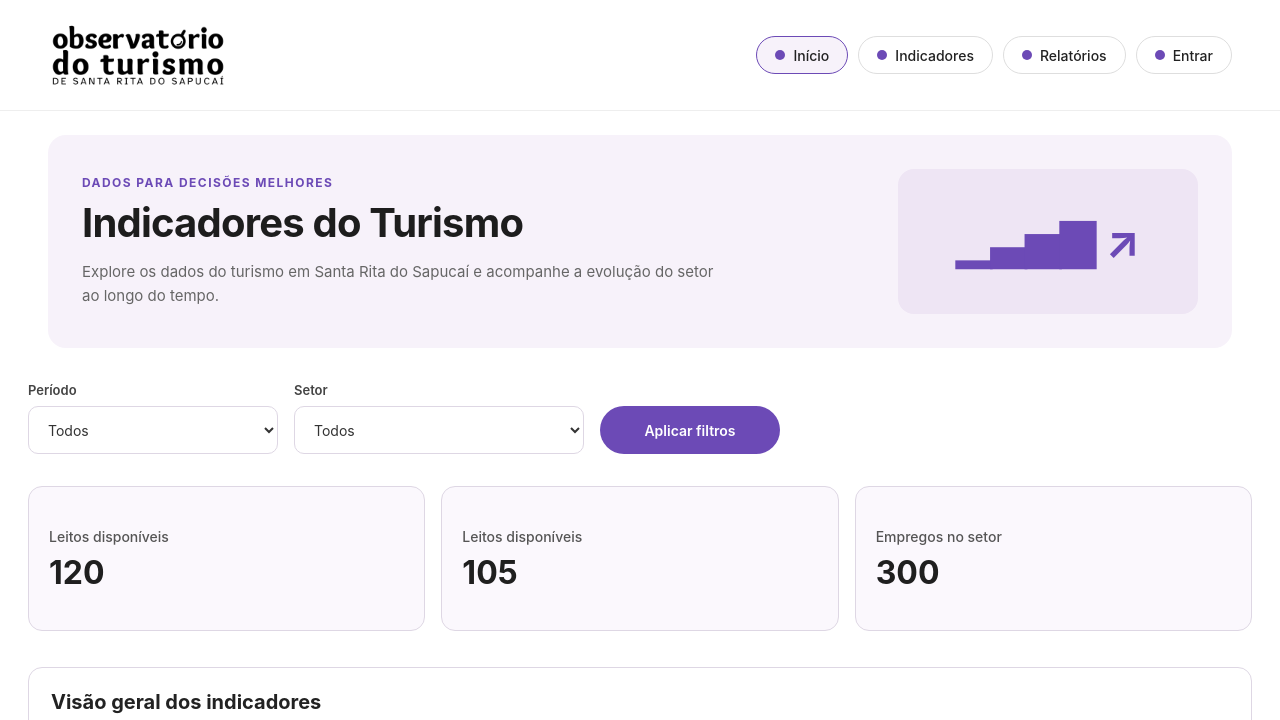
Test: Dashboard › filtra os indicadores pelo setor
The image size is (1280, 720).
Expected: the text "120" is shown, [49, 553, 104, 592]
Select "Hospedagem" in the dropdown labelled "Setor". click: (439, 430)
box: [294, 406, 584, 454]
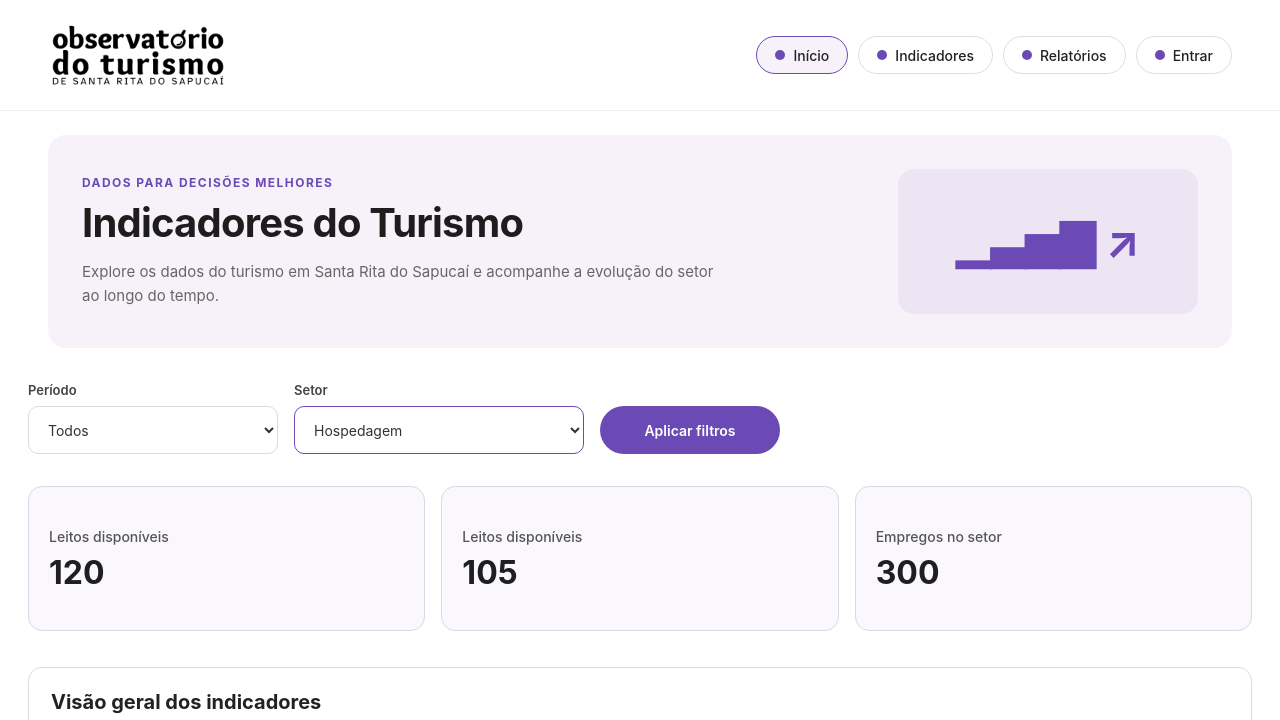
Click the button "Aplicar filtros". click: (690, 430)
box: [600, 406, 780, 454]
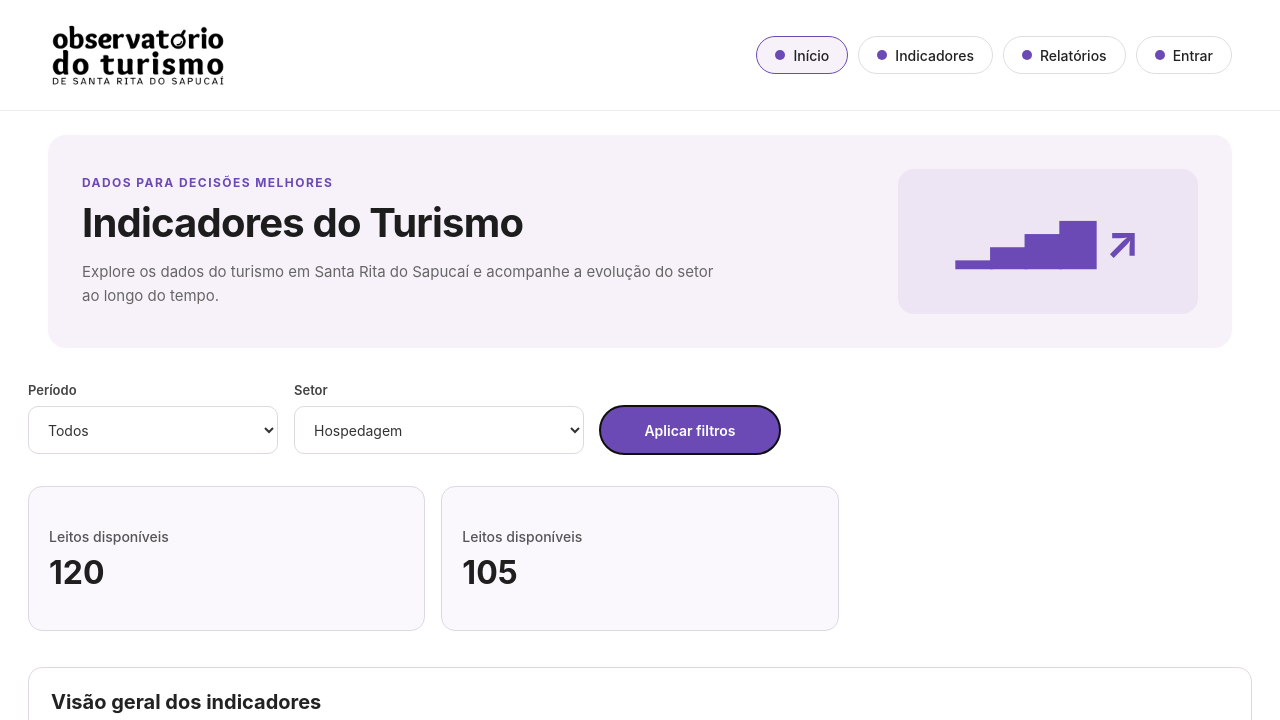
Expected: the text "Leitos disponíveis" is shown 2 times, [49, 528, 169, 545]; [462, 528, 582, 545]
Expected: the text "Empregos no setor" is gone
